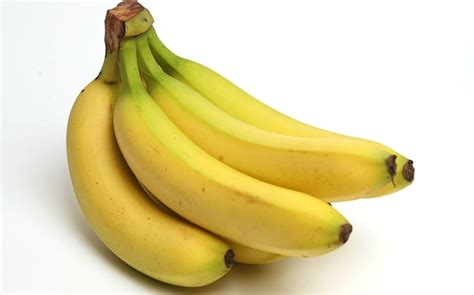banana: (110, 86, 354, 260), (63, 77, 240, 289), (169, 54, 417, 195), (152, 75, 397, 206)
